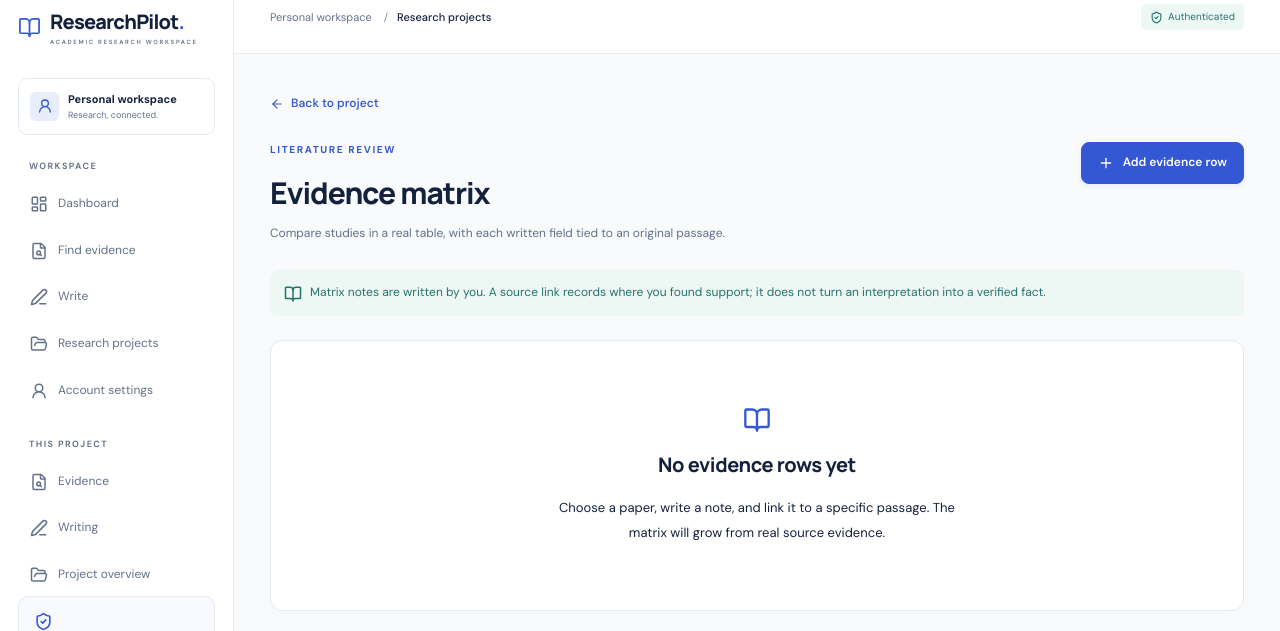
Scenario: saves a user-authored matrix note only with its chosen source and links the result
Click the button "Add evidence row". click: (1162, 163)
box: [1081,142,1244,184]
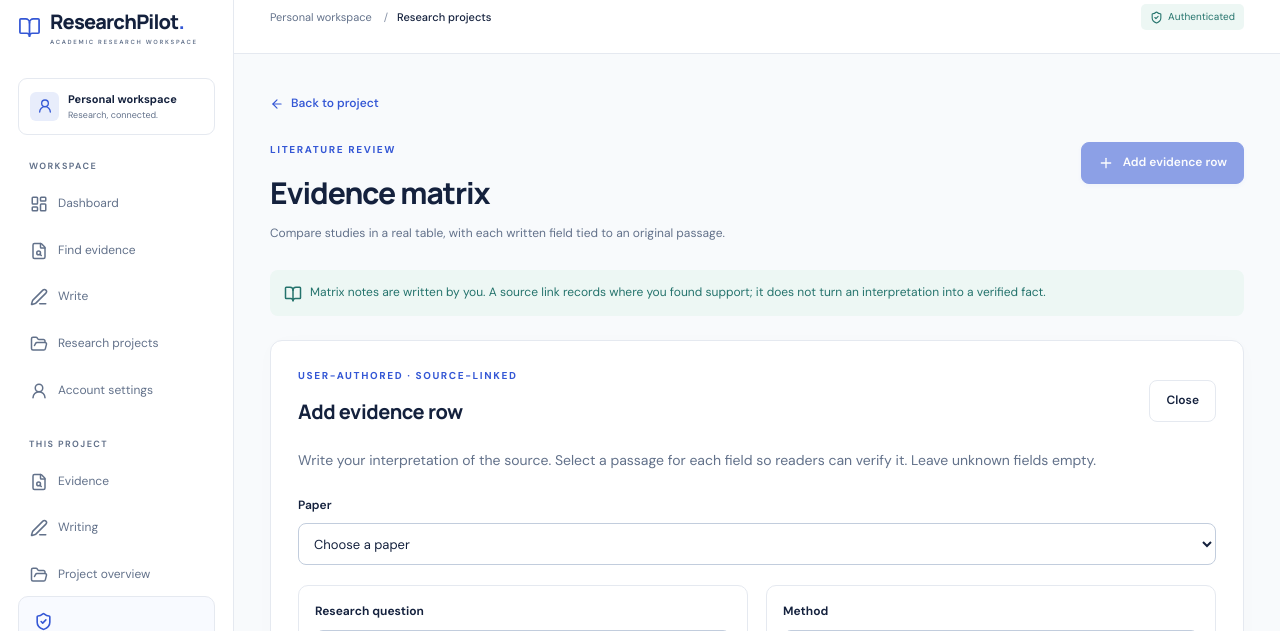
Select "Paper.pdf" in the dropdown labelled "Paper". click: (757, 544)
box: [298,523,1216,565]
(page scrolled)
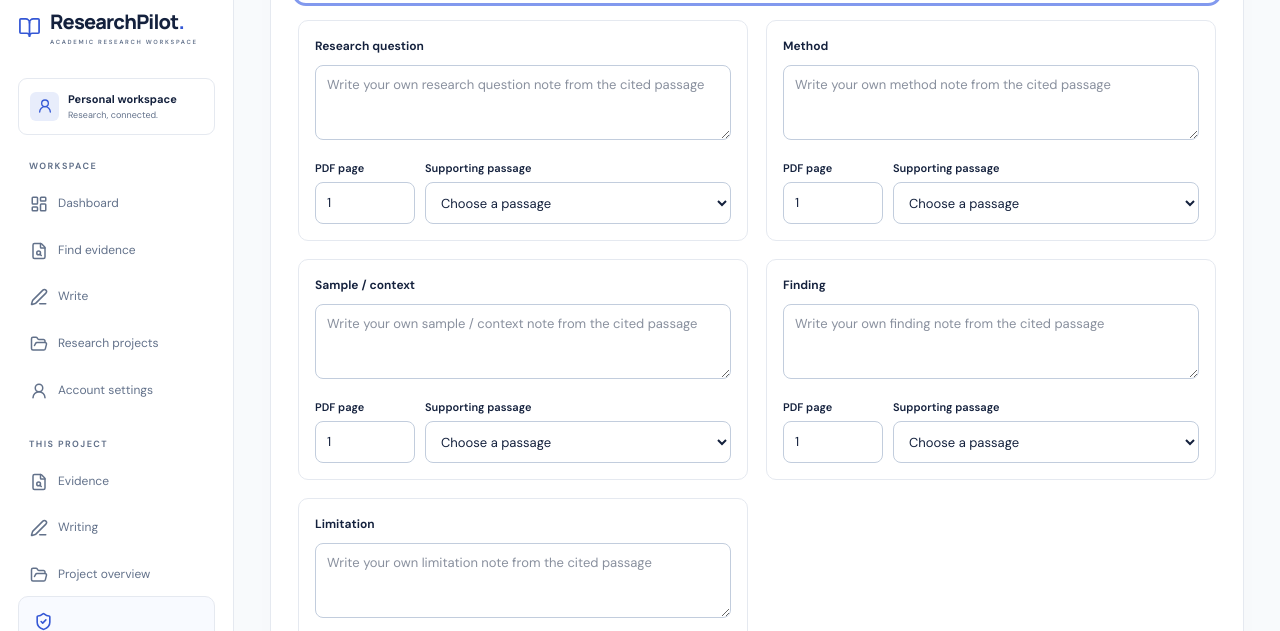
Type "Adoption varied by firm size." into the text box labelled "Finding". click: (991, 342)
box: [783,304,1199,379]
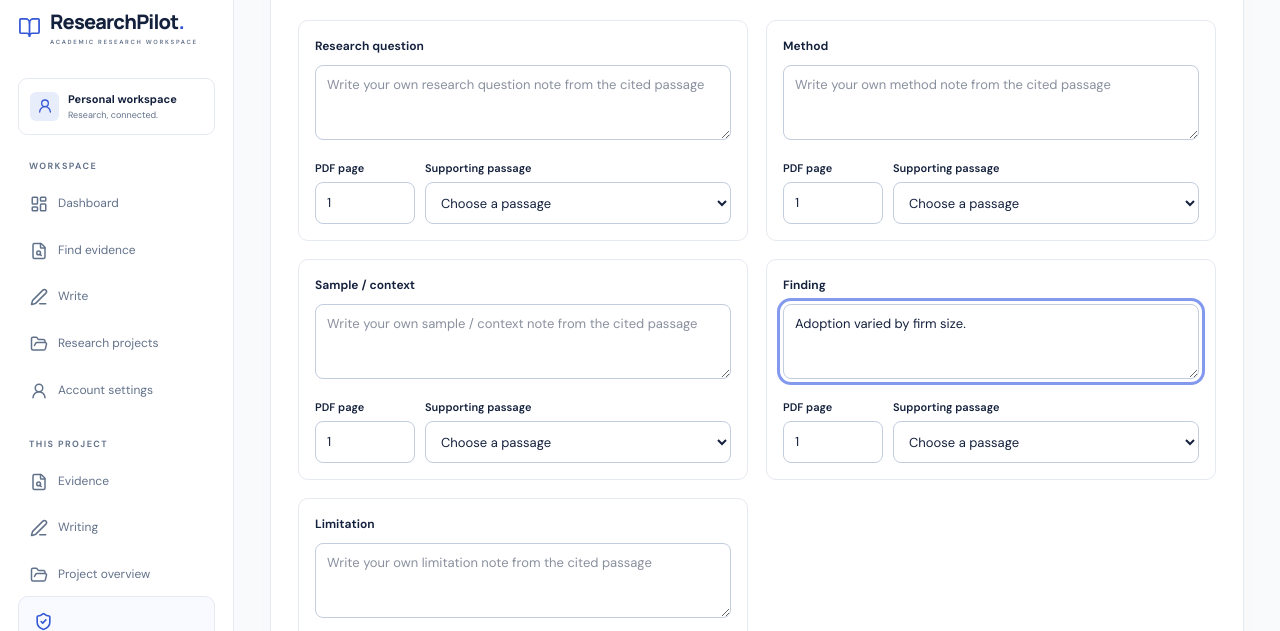
Select "prose · The authors surveyed firms." in the dropdown named "Finding supporting passage". click: (1046, 442)
box: [893,421,1199,463]
(page scrolled)
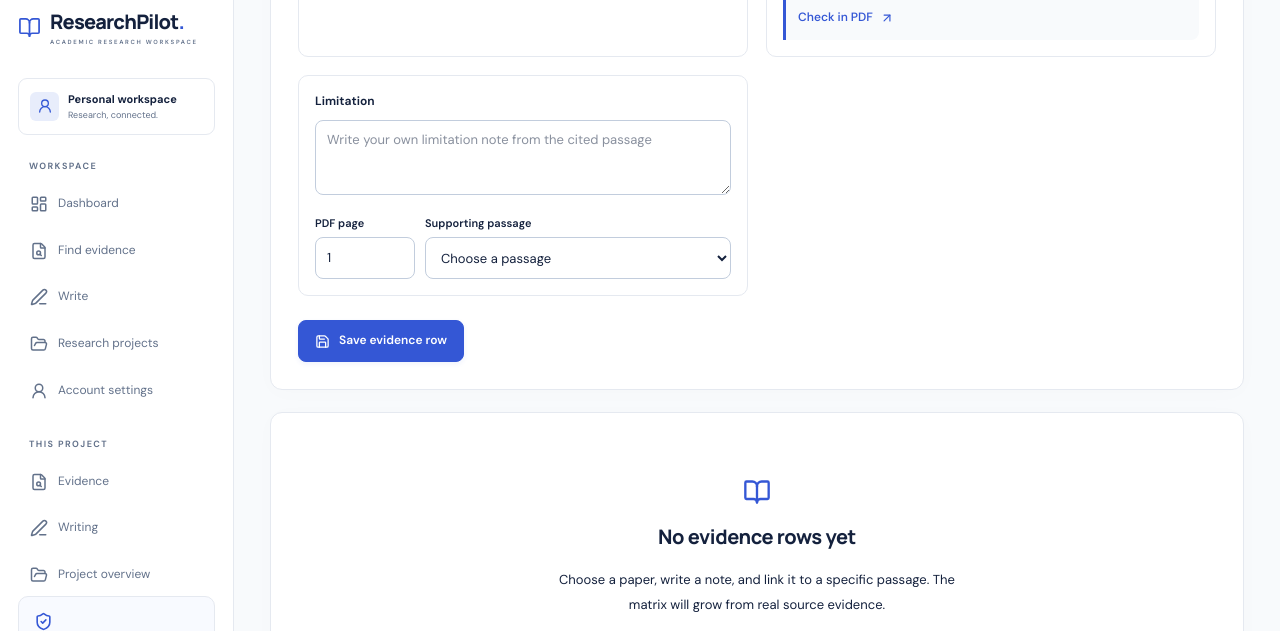
Click the button "Save evidence row". click: (381, 341)
box: [298,320,464,362]
(page scrolled)
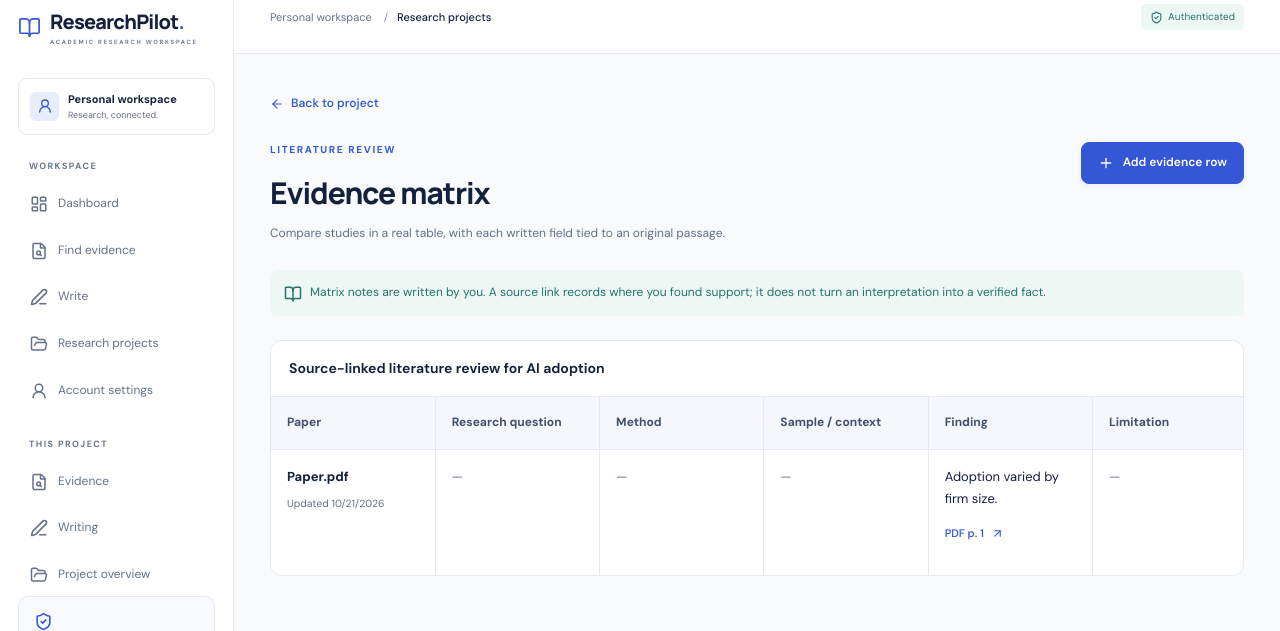
Expected: the text "Adoption varied by firm size." is shown, [945,466,1076,510]
